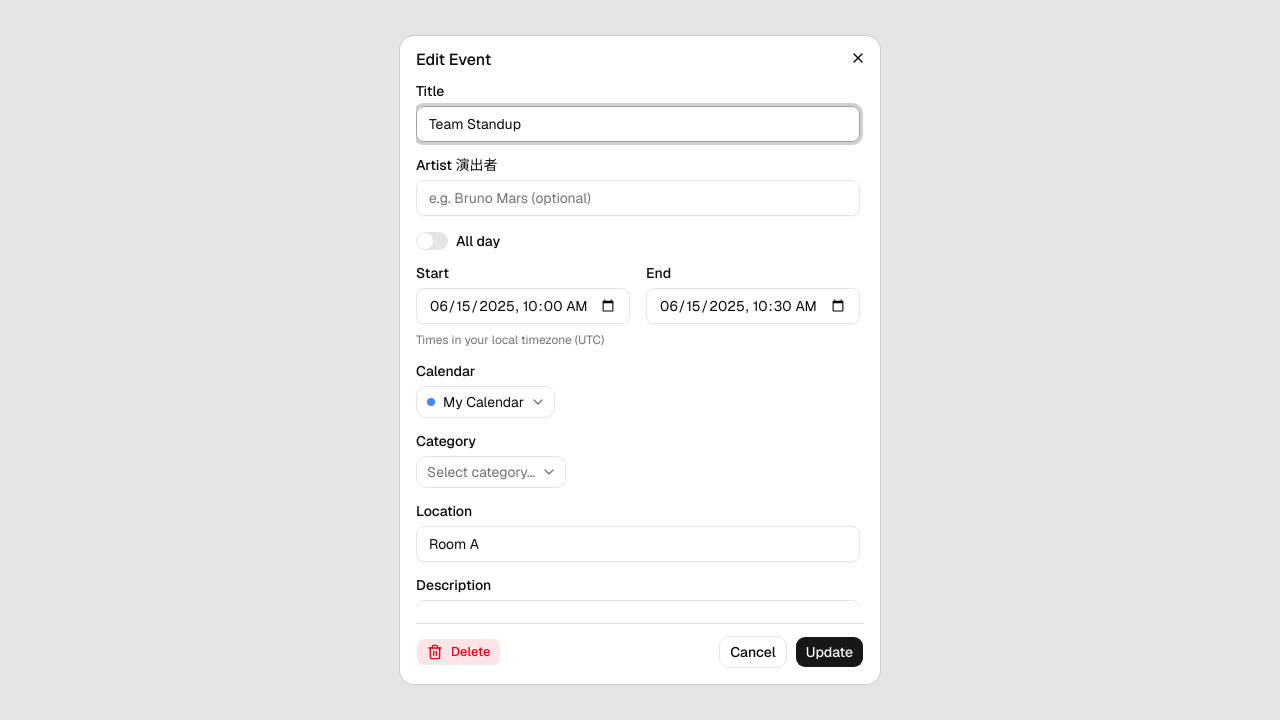
Test: EventModal › preserves the original time-of-day through an all-day on/off round trip
Expected: the field showing "Team Standup" is shown, [416, 106, 860, 142]
Step 1. Click the switch named "All day" → coordinates (432, 241), box [416, 232, 448, 250]
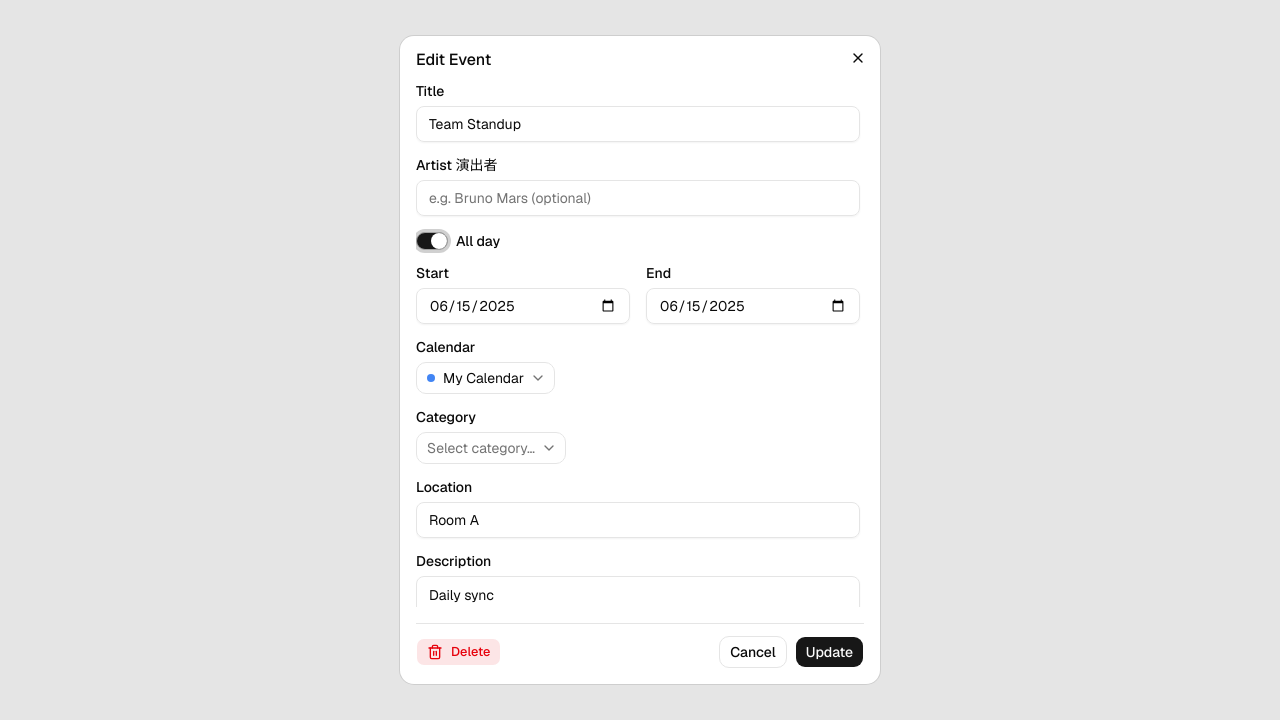
Expected: the date field labelled "Start" holds "2025-06-15", [416, 288, 630, 324]
Step 2. Click the switch named "All day" → coordinates (432, 241), box [416, 232, 448, 250]
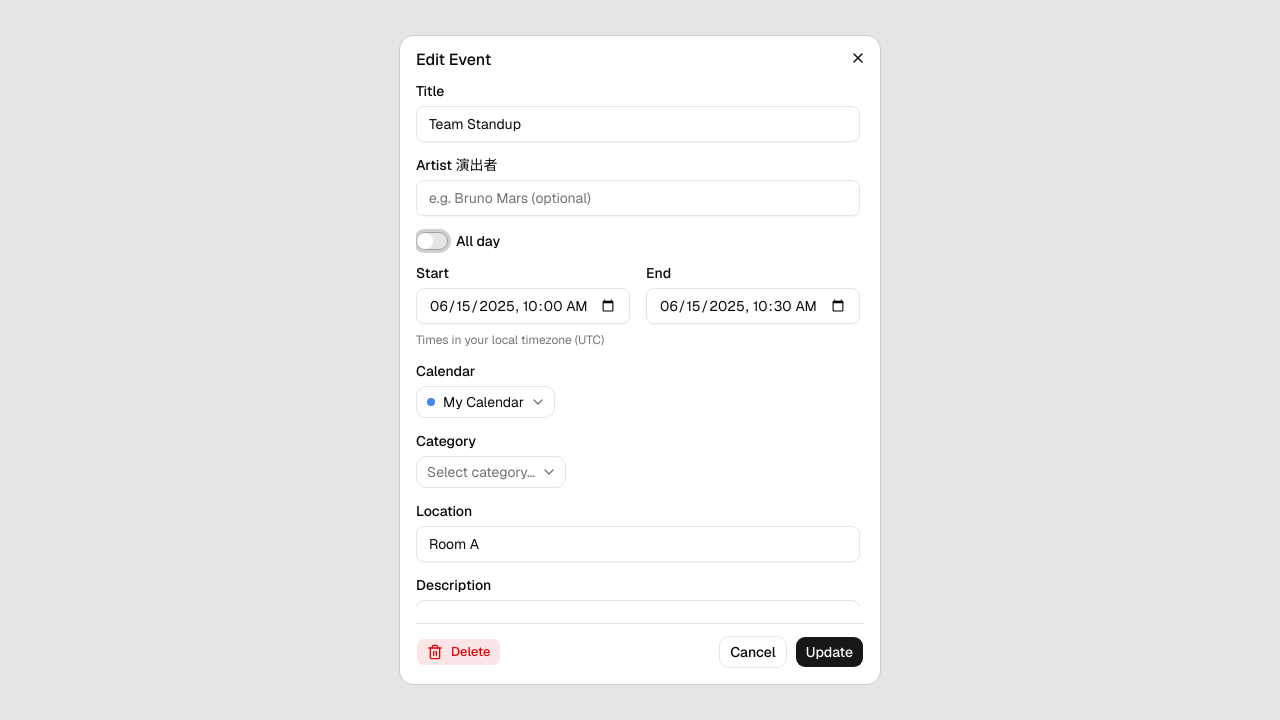
Expected: the field labelled "Start" holds "2025-06-15T10:00", [416, 288, 630, 324]
